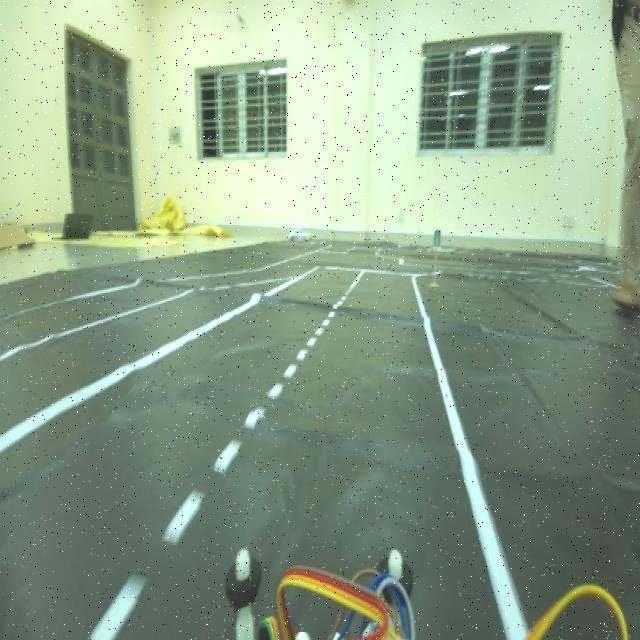highway_entry: (432, 228, 442, 254)
